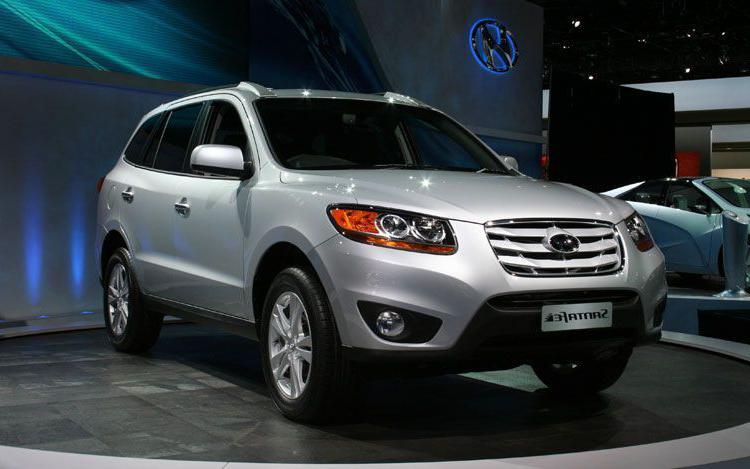Car: (54, 68, 679, 431), (603, 162, 750, 301)
